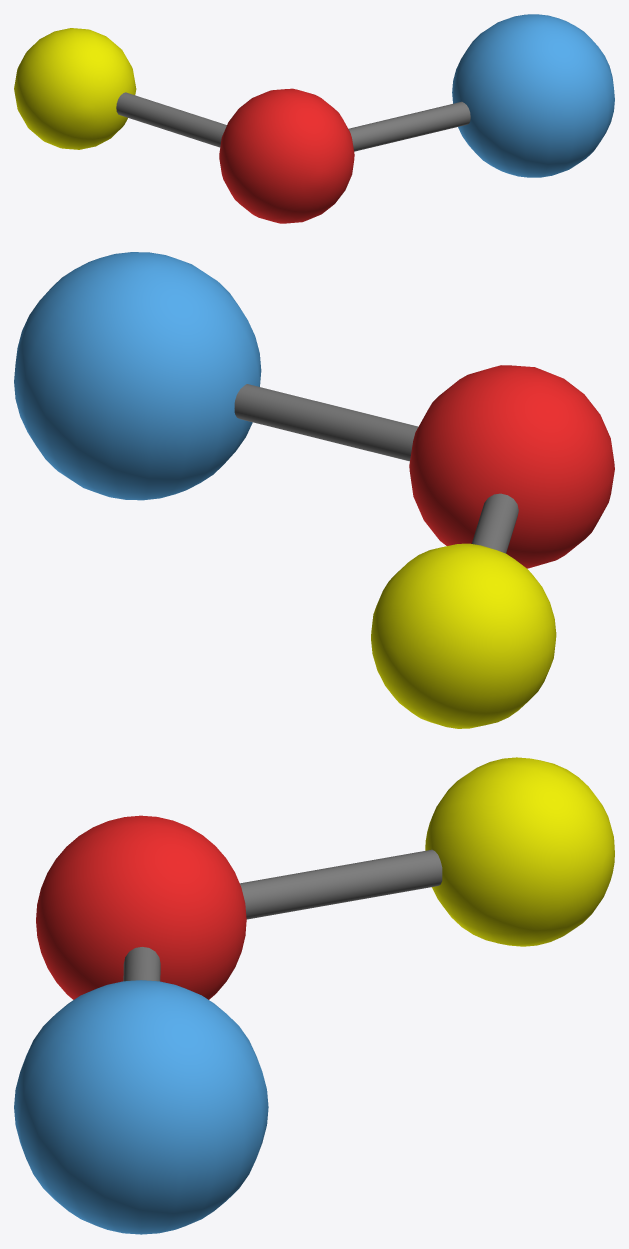
Rendered from NaOH.fbx.
3 views of the same model, one above another, from view 1: azimuth 30°, elevation 25°; view 2: azimuth 150°, elevation 25°; view 3: azimuth 270°, elevation 25° (orthographic). The views are drawn at different scales.
Visible parts, largest first — view 1: NaOH; view 2: NaOH; view 3: NaOH.
Part boxes in pixels (x1,y1,x2,y2): NaOH: (14,14,614,223); NaOH: (14,252,614,728); NaOH: (14,757,614,1234).
Size of the model in its own units: 7.25 by 2.23 by 5.27.
